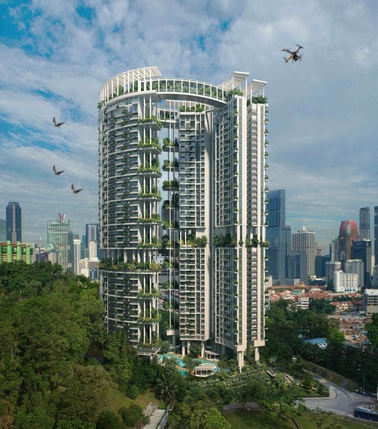drone_other: (281, 43, 307, 65)
